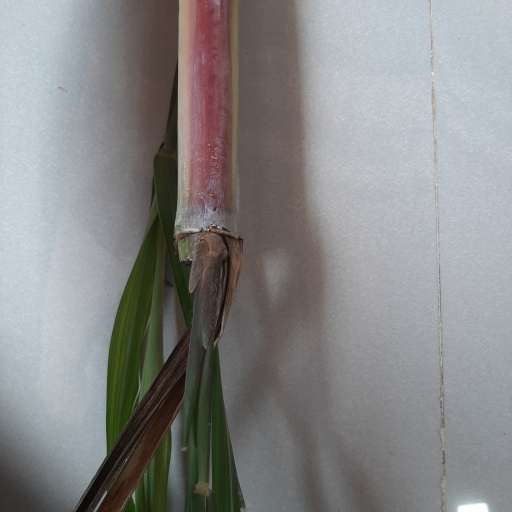Sprouted_Bud: (187, 232, 227, 297)
